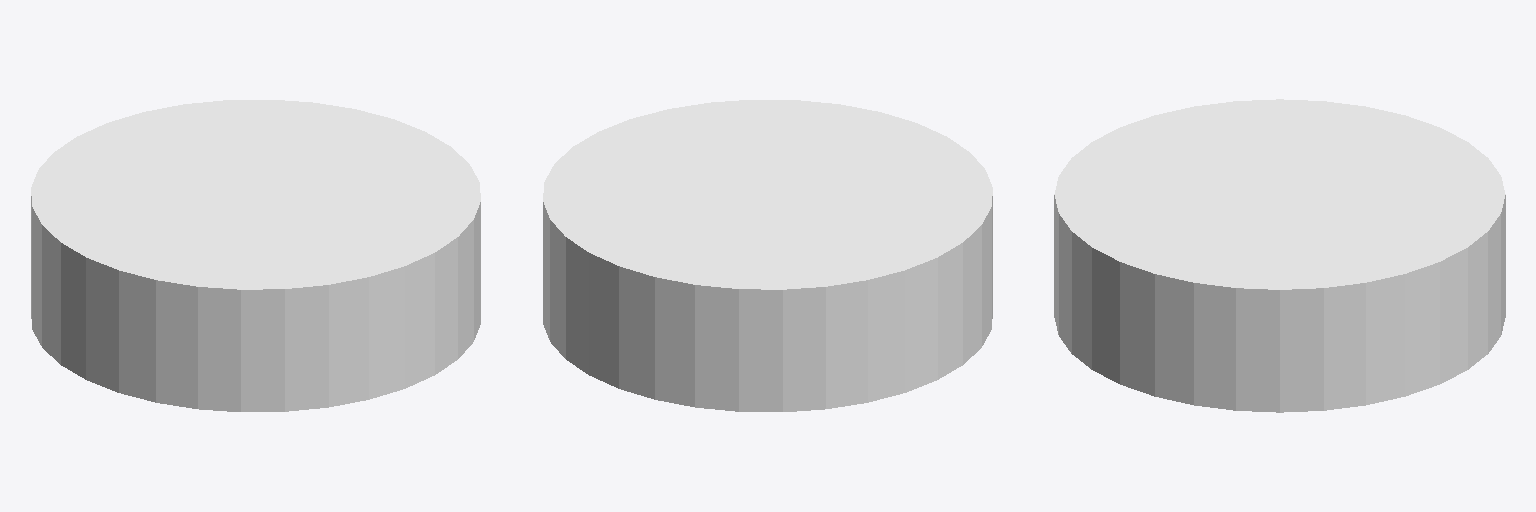
The model's file is cake.obj.
The picture shows the model from 3 angles: view 1: azimuth 30°, elevation 25°; view 2: azimuth 150°, elevation 25°; view 3: azimuth 270°, elevation 25°; orthographic projection.
Visible parts, largest first — view 1: Cube.003_Cube.020; view 2: Cube.003_Cube.020; view 3: Cube.003_Cube.020.
Boxes of the visible parts, box(x1,y1,x2,y2) form: Cube.003_Cube.020: box(31, 100, 480, 411); Cube.003_Cube.020: box(543, 100, 992, 411); Cube.003_Cube.020: box(1054, 99, 1505, 412).
Size of the model in its own units: 4 by 1.2 by 4.